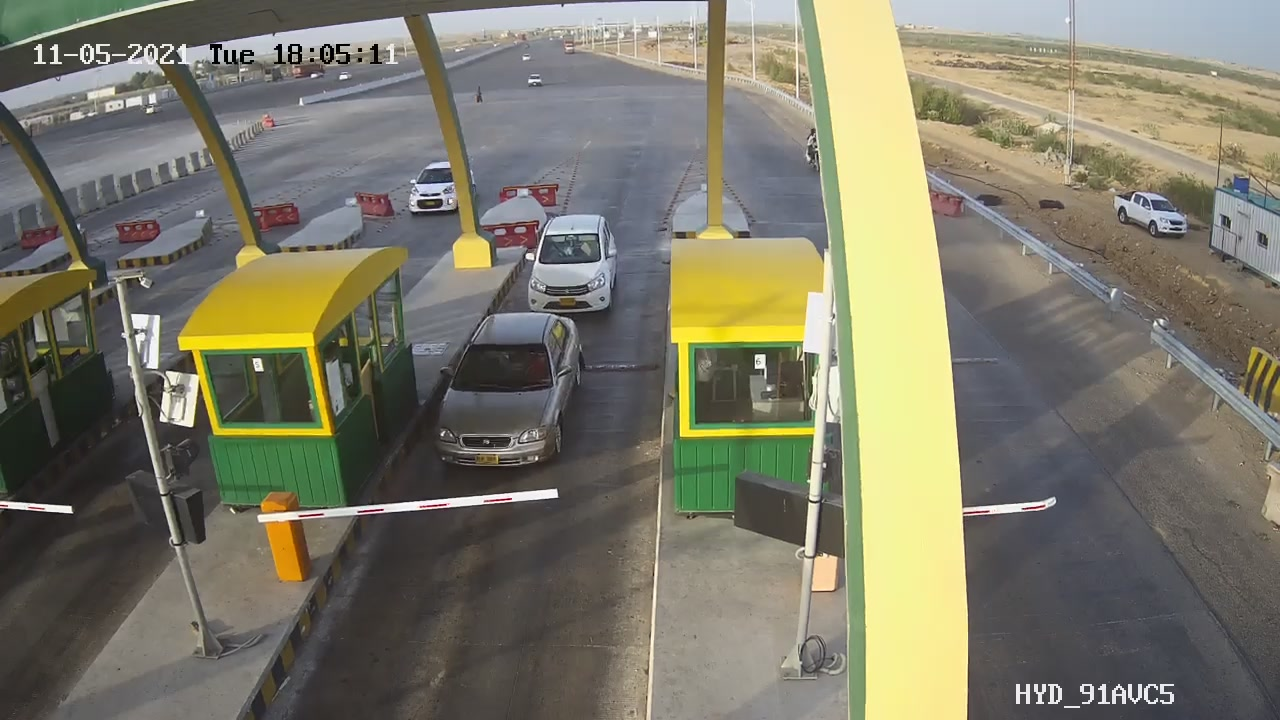F1: (417, 311, 603, 485), (517, 209, 642, 311)
